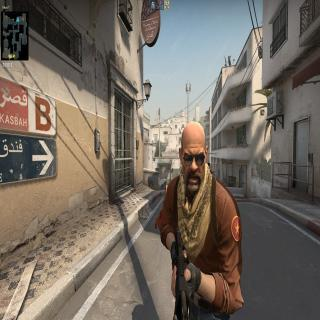T-Head: (179, 120, 209, 196)
